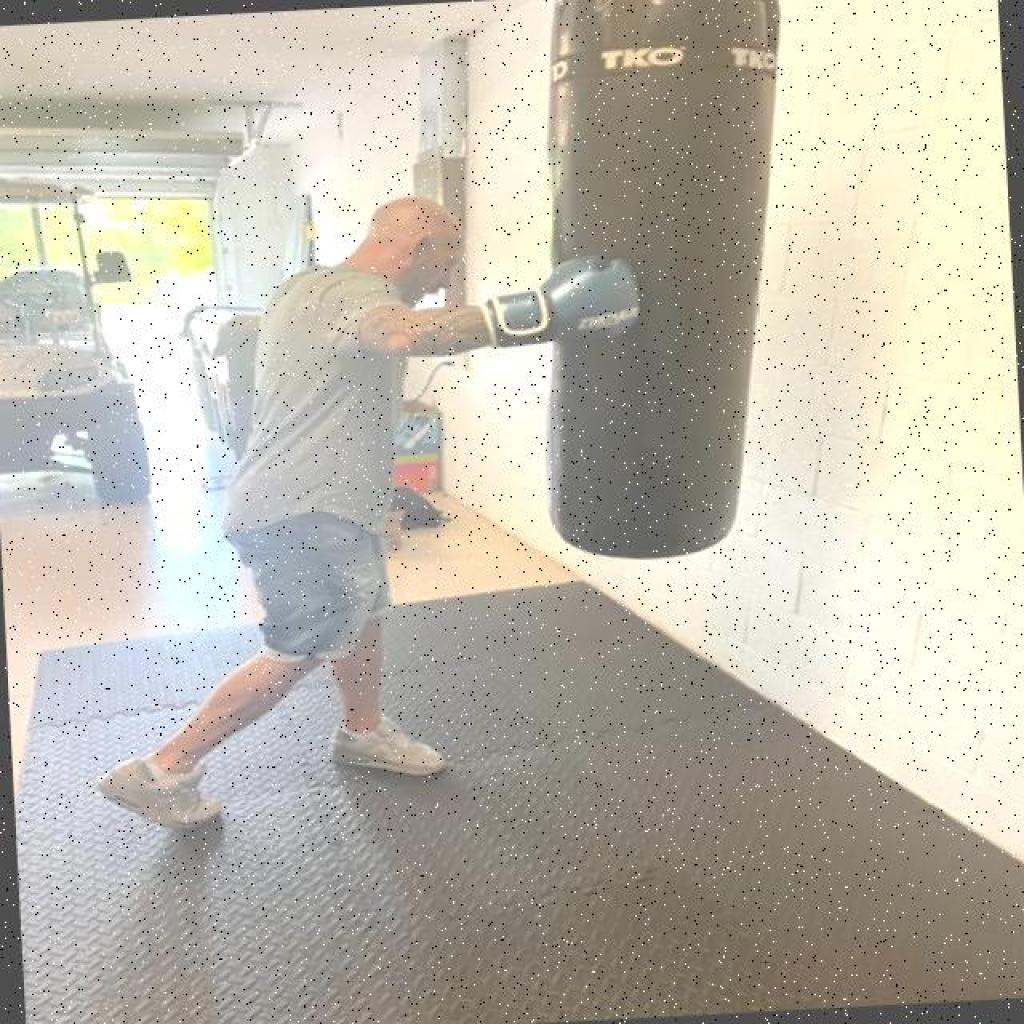hook: (222, 160, 661, 411)
